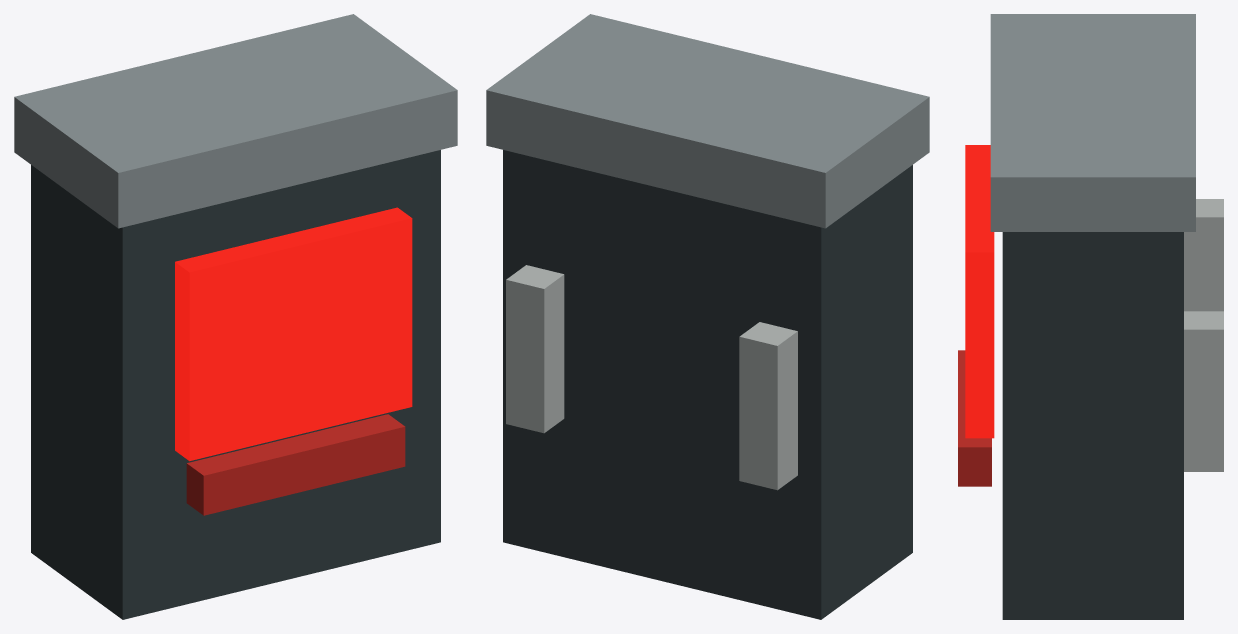
The model's file is emergency_wall.glb.
3 views of the same model, side by side, from view 1: azimuth 30°, elevation 25°; view 2: azimuth 150°, elevation 25°; view 3: azimuth 270°, elevation 25° (orthographic).
Visible parts, largest first — view 1: emergency_housing, emergency_top_cap, emergency_red_panel, emergency_label_bar; view 2: emergency_housing, emergency_top_cap, emergency_mount_0, emergency_mount_1; view 3: emergency_housing, emergency_top_cap, emergency_red_panel, emergency_mount_1, emergency_mount_0, emergency_label_bar.
Part boxes in pixels (x1,y1,x2,y2): emergency_housing: (31,150,440,619); emergency_top_cap: (14,14,457,228); emergency_red_panel: (175,207,412,461); emergency_label_bar: (186,414,405,515); emergency_housing: (503,150,912,619); emergency_top_cap: (486,14,929,228); emergency_mount_0: (739,322,797,490); emergency_mount_1: (506,265,564,433); emergency_housing: (1002,232,1183,619); emergency_top_cap: (990,14,1195,231); emergency_red_panel: (965,145,994,438); emergency_mount_1: (1184,311,1223,471); emergency_mount_0: (1184,199,1223,311); emergency_label_bar: (958,350,991,486).
Bounding box in the file's own units: 0.16 × 0.2045 × 0.11.
